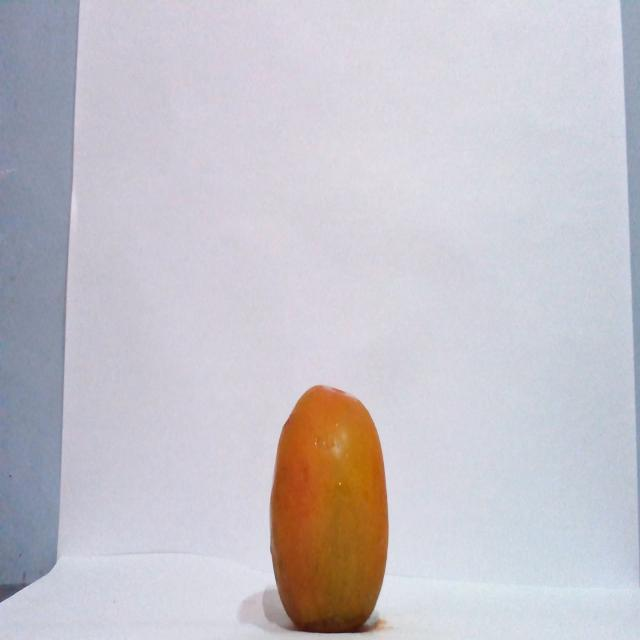Red: (267, 383, 389, 632)
